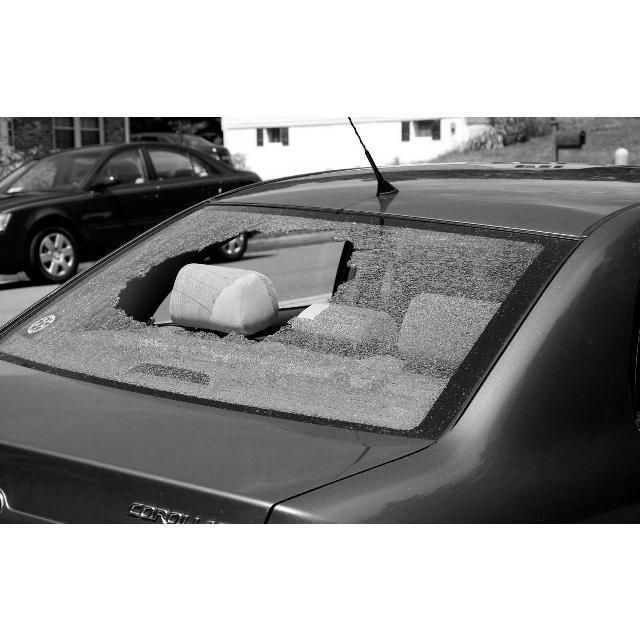Rear-windscreen-Damage: (41, 173, 536, 437)
